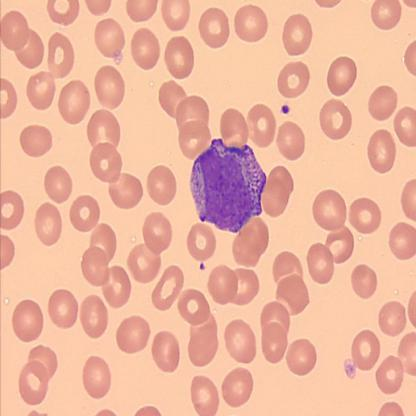Myelocyte: (190, 135, 266, 232)
